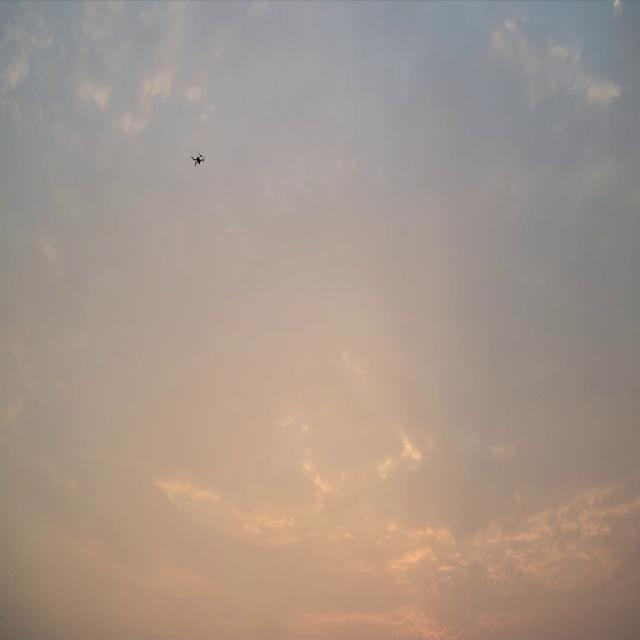UAV: (190, 152, 205, 166)
